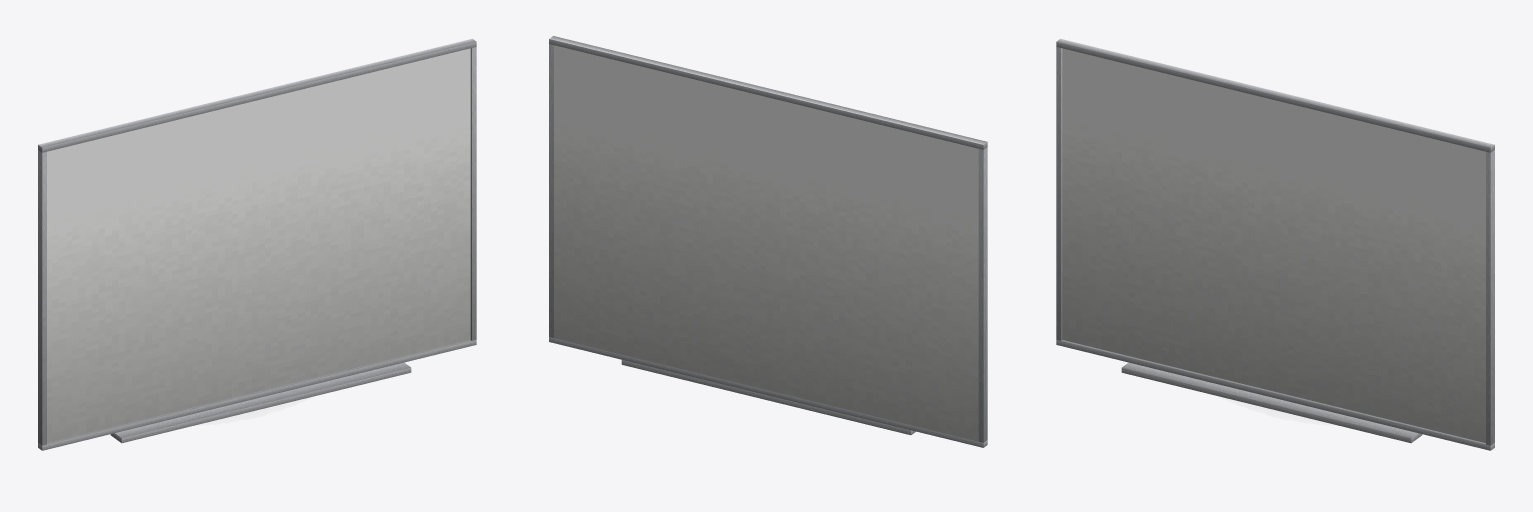
Rendered from whiteboard.glb.
The picture shows the model from 3 angles, left to right: view 1: azimuth 30°, elevation 25°; view 2: azimuth 150°, elevation 25°; view 3: azimuth 330°, elevation 25°; orthographic projection.
Parts seen in each view (by area): view 1: board, frame; view 2: board, frame; view 3: board, frame.
Part boxes in pixels (left/top/right/bottom): board: left=47, top=48, right=470, bottom=443; frame: left=38, top=38, right=476, bottom=450; board: left=554, top=45, right=978, bottom=441; frame: left=549, top=36, right=987, bottom=447; board: left=1062, top=48, right=1485, bottom=443; frame: left=1056, top=38, right=1494, bottom=450.
Size of the model in its own units: 2 by 1.45 by 0.08.
Materials: 3 (3 with a texture image).
